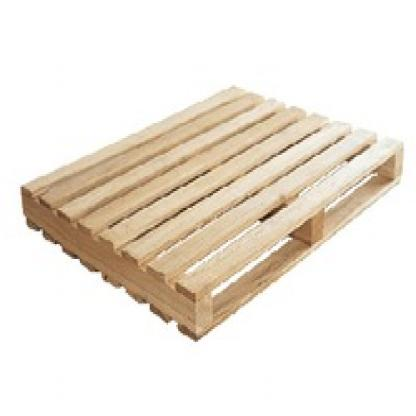BoxFace: (18, 82, 404, 347)
